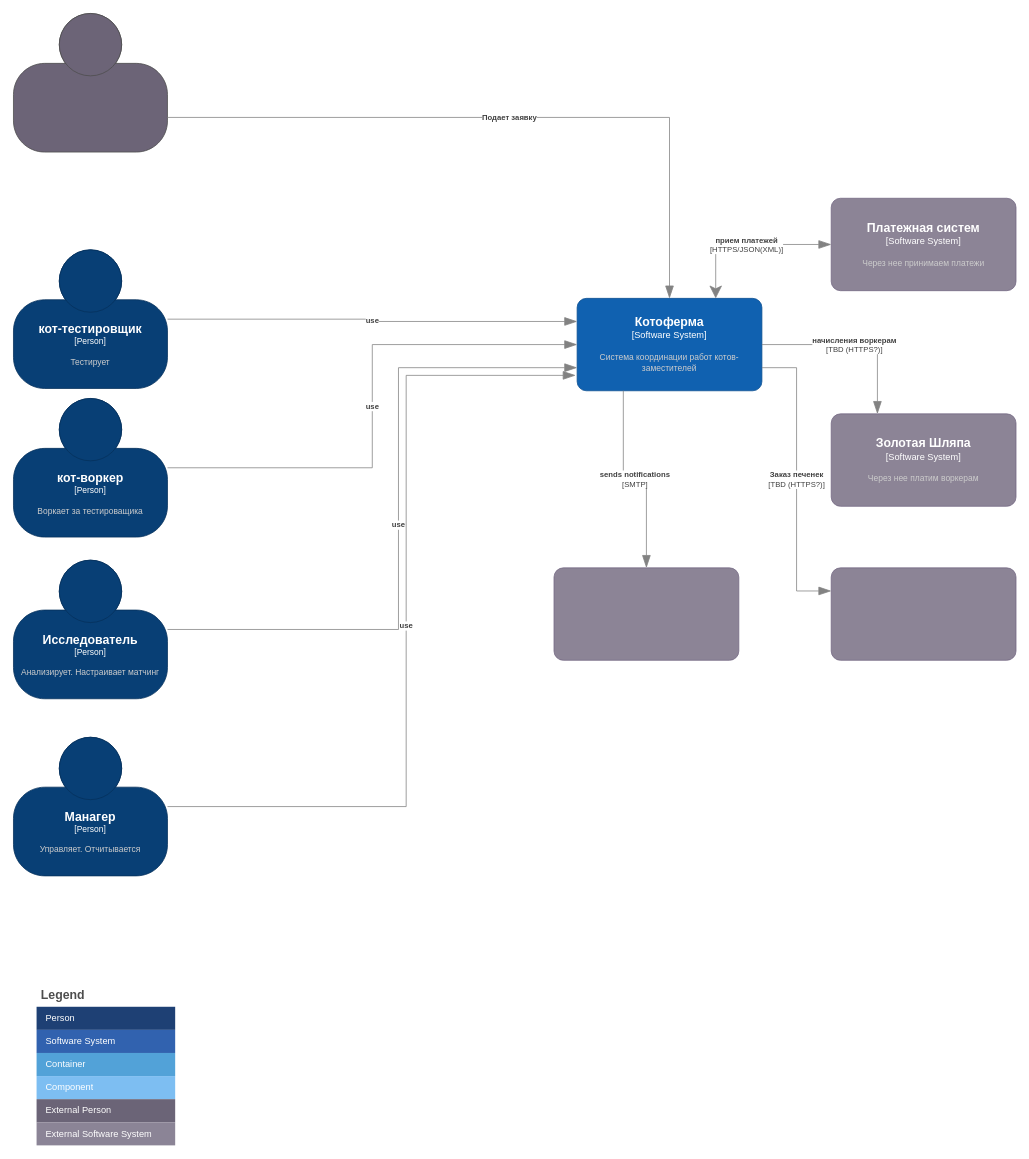
Image size: 1029x1159. Some labels were removed from this diagram. The centre of each missing label's shape, as x and y in pixels:
Fur-Tune-Req [Software System] Система приема заказов на fur-tune печенье: point 923,613
MTA [Software System] Mail Transfer Agent - внешняя система доставки емейл: point 646,613
Кандидат [Person] Кот, который еще не прошел тесты: point 90,82
